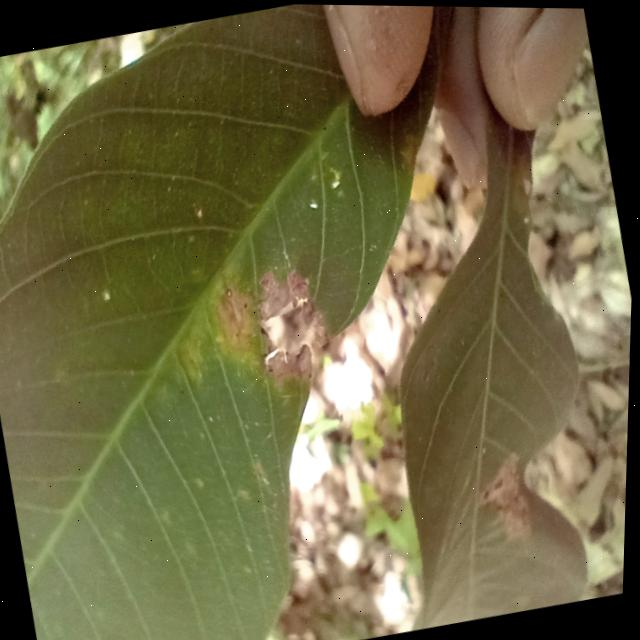Colletotrichum: (226, 286, 236, 296)
